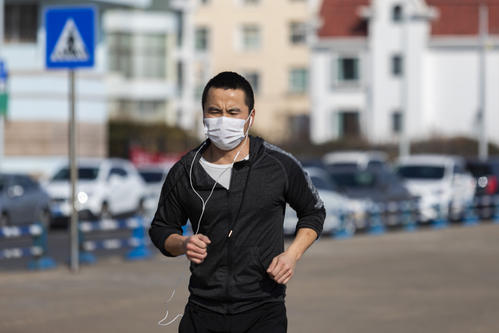mask: (205, 85, 251, 155)
